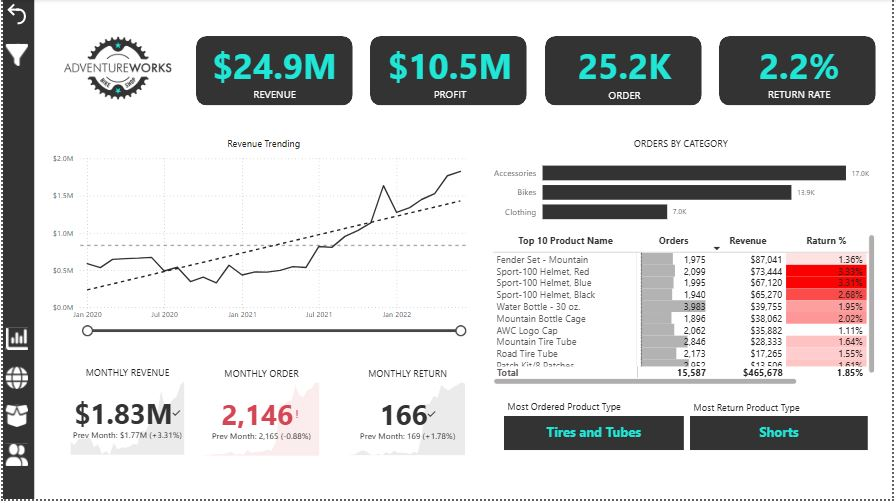

This screenshot's page, from the dashboard's own definition file:
{"tool":"powerbi","page":{"name":"Exec dashboard","canvas":[1280,720],"ordinal":1},"visuals":[{"type":"image","title":"AW Logo","box":[65.7,0,198.6,198.6],"z":0},{"type":"group","id":"g1","title":"KPI Background","box":[278.6,52.9,978.6,100],"z":0,"group":"g3"},{"type":"shape","box":[278.6,52.9,225.7,100],"z":0,"group":"g1"},{"type":"card","fields":{"Values":["Measure Table.Total Revenue"]},"box":[280.8,53,220.6,100],"z":0,"group":"g2"},{"type":"actionButton","box":[0,470,44.3,40],"z":0,"group":"g4"},{"type":"shape","title":"Left Nav Background","box":[0,0,45,720],"z":1000},{"type":"shape","box":[1031.5,52.9,225.7,100],"z":1000,"group":"g1"},{"type":"group","id":"g2","title":"KPI Values","box":[280.8,53,978.3,101.5],"z":1000,"group":"g3"},{"type":"card","fields":{"Values":["Measure Table.Total Profit"]},"box":[532.6,53,222.1,100],"z":1000,"group":"g2"},{"type":"actionButton","box":[0,525.7,44.3,40],"z":1000,"group":"g4"},{"type":"group","id":"g3","title":"KPI's","box":[278.6,52.9,980.5,101.6],"z":2000},{"type":"shape","box":[780.5,52.9,225.7,100],"z":2000,"group":"g1"},{"type":"card","fields":{"Values":["Measure Table.Total Order"]},"box":[784.1,53,220.6,101.5],"z":2000,"group":"g2"},{"type":"actionButton","box":[0,581.4,44.3,40],"z":2000,"group":"g4"},{"type":"shape","box":[529.6,52.9,225.7,100],"z":3000,"group":"g1"},{"type":"card","fields":{"Values":["Measure Table.Return Rate"]},"box":[1034.1,53,225,100],"z":3000,"group":"g2"},{"type":"lineChart","title":"Revenue Trending","fields":{"Y":["Measure Table.Total Revenue","select","select1","select2"],"Category":["Calendar Lookup.Start of Year Hierarchy.Start of Year","Calendar Lookup.Start of Year Hierarchy.Start of Quarter","Calendar Lookup.Start of Year Hierarchy.Start of Month","Calendar Lookup.Start of Year Hierarchy.Date","Calendar Lookup.Start of Year Hierarchy.Start of Week"]},"box":[65.7,198.6,618.6,290],"z":3000},{"type":"actionButton","box":[0,637.1,44.3,40],"z":3000,"group":"g4"},{"type":"kpi","title":"MONTHLY REVENUE","fields":{"Indicator":["Measure Table.Total Revenue"],"TrendLine":["Calendar Lookup.Start of Year Hierarchy.Start of Month"],"Goal":["Measure Table.Previous Month Revenue"]},"box":[92.9,528.6,174.3,132.9],"z":4000},{"type":"kpi","title":"MONTHLY ORDER","fields":{"TrendLine":["Calendar Lookup.Start of Year Hierarchy.Start of Month"],"Indicator":["Measure Table.Total Order"],"Goal":["Measure Table.Previous Month Order"]},"box":[284.3,530,177.1,132.9],"z":5000},{"type":"kpi","title":"MONTHLY RETURN","fields":{"TrendLine":["Calendar Lookup.Start of Year Hierarchy.Start of Month"],"Indicator":["Measure Table.Total Returns"],"Goal":["Measure Table.Previous Month Return"]},"box":[495.8,530.2,175,132.4],"z":6000},{"type":"clusteredBarChart","title":"ORDERS BY CATEGORY","fields":{"Category":["Product Categories Lookup.CategoryName"],"Y":["Measure Table.Total Order"]},"box":[697.1,198.6,558.6,135.7],"z":7000},{"type":"pivotTable","fields":{"Rows":["Product Lookup.ProductName"],"Values":["Measure Table.Total Order","Measure Table.Total Revenue","Measure Table.Return Rate","select"]},"box":[701.4,334.3,558.6,225.7],"z":8000},{"type":"card","fields":{"Values":["Min(Product Subcategories Lookup.SubcategoryName)"]},"box":[721.4,600,258.6,48.6],"z":9000},{"type":"textbox","box":[721.3,573.7,183.8,32.4],"z":10000},{"type":"card","fields":{"Values":["Min(Product Subcategories Lookup.SubcategoryName)"]},"box":[988.6,600,255.7,48.6],"z":11000},{"type":"textbox","box":[988.6,574.3,182.9,31.4],"z":12000},{"type":"actionButton","box":[0,1.4,44.3,40],"z":13000},{"type":"group","id":"g4","title":"Navigation Buttons","box":[0,470,44.3,207.1],"z":14000},{"type":"actionButton","box":[0,60,44.3,40],"z":15000}]}

Visuals, with their boxes on the page's 1280x720 design canvas (x1, y1, x2, y2). These are canvas units, not pixel positions in the 896x503 screenshot, which may show the page scaled, cropped or inside an application window:
"AW Logo" image: box=[66, 0, 264, 199]
"KPI Background" group: box=[279, 53, 1257, 153]
shape: box=[279, 53, 504, 153]
card - Measure Table.Total Revenue: box=[281, 53, 501, 153]
actionButton: box=[0, 470, 44, 510]
"Left Nav Background" shape: box=[0, 0, 45, 720]
shape: box=[1032, 53, 1257, 153]
"KPI Values" group: box=[281, 53, 1259, 154]
card - Measure Table.Total Profit: box=[533, 53, 755, 153]
actionButton: box=[0, 526, 44, 566]
"KPI's" group: box=[279, 53, 1259, 154]
shape: box=[780, 53, 1006, 153]
card - Measure Table.Total Order: box=[784, 53, 1005, 154]
actionButton: box=[0, 581, 44, 621]
shape: box=[530, 53, 755, 153]
card - Measure Table.Return Rate: box=[1034, 53, 1259, 153]
"Revenue Trending" lineChart: box=[66, 199, 684, 489]
actionButton: box=[0, 637, 44, 677]
"MONTHLY REVENUE" kpi: box=[93, 529, 267, 662]
"MONTHLY ORDER" kpi: box=[284, 530, 461, 663]
"MONTHLY RETURN" kpi: box=[496, 530, 671, 663]
"ORDERS BY CATEGORY" clusteredBarChart: box=[697, 199, 1256, 334]
pivotTable - Product Lookup.ProductName x Measure Table.Total Order: box=[701, 334, 1260, 560]
card - Min(Product Subcategories Lookup.SubcategoryName): box=[721, 600, 980, 649]
textbox: box=[721, 574, 905, 606]
card - Min(Product Subcategories Lookup.SubcategoryName): box=[989, 600, 1244, 649]
textbox: box=[989, 574, 1172, 606]
actionButton: box=[0, 1, 44, 41]
"Navigation Buttons" group: box=[0, 470, 44, 677]
actionButton: box=[0, 60, 44, 100]
